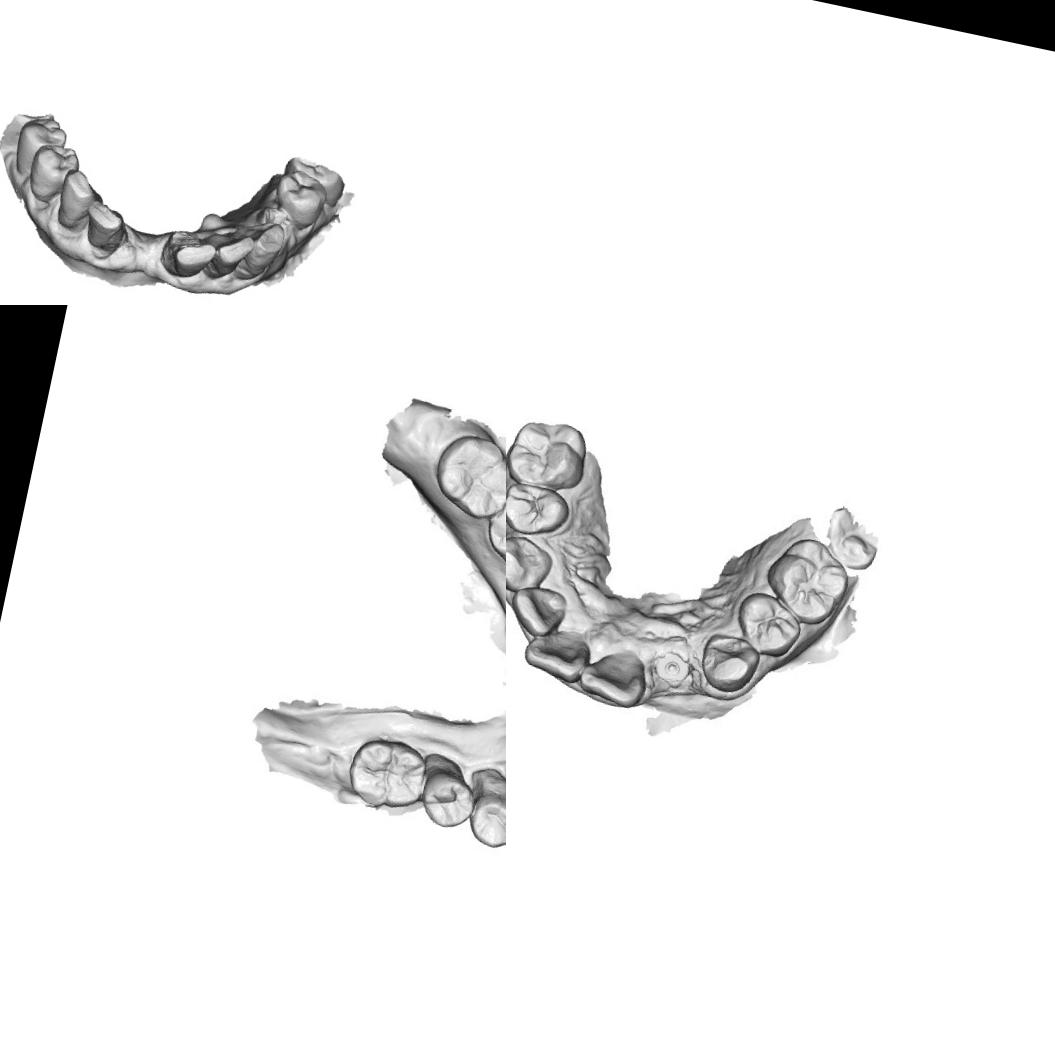canine: (695, 628, 761, 698), (227, 216, 289, 288), (51, 164, 108, 236), (506, 530, 557, 601)
implant: (654, 646, 698, 692)
incisor: (570, 641, 654, 714), (518, 627, 592, 686), (506, 580, 572, 643), (196, 225, 255, 287), (156, 226, 218, 284), (78, 192, 132, 256)
molar: (758, 530, 858, 630), (343, 730, 435, 820), (506, 409, 596, 497), (426, 428, 506, 525), (480, 488, 506, 581)
premolar: (724, 586, 808, 663), (8, 109, 72, 184), (414, 762, 480, 832), (506, 476, 573, 542), (20, 139, 81, 210), (269, 166, 333, 232), (278, 152, 350, 210), (469, 787, 506, 852)
